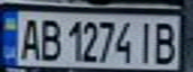1: (63, 17, 84, 62)
2: (78, 17, 100, 63)
4: (115, 18, 139, 64)
7: (97, 17, 118, 63)
A: (15, 15, 42, 61)
B: (151, 19, 181, 65), (36, 16, 63, 62)
I: (133, 18, 157, 64)
